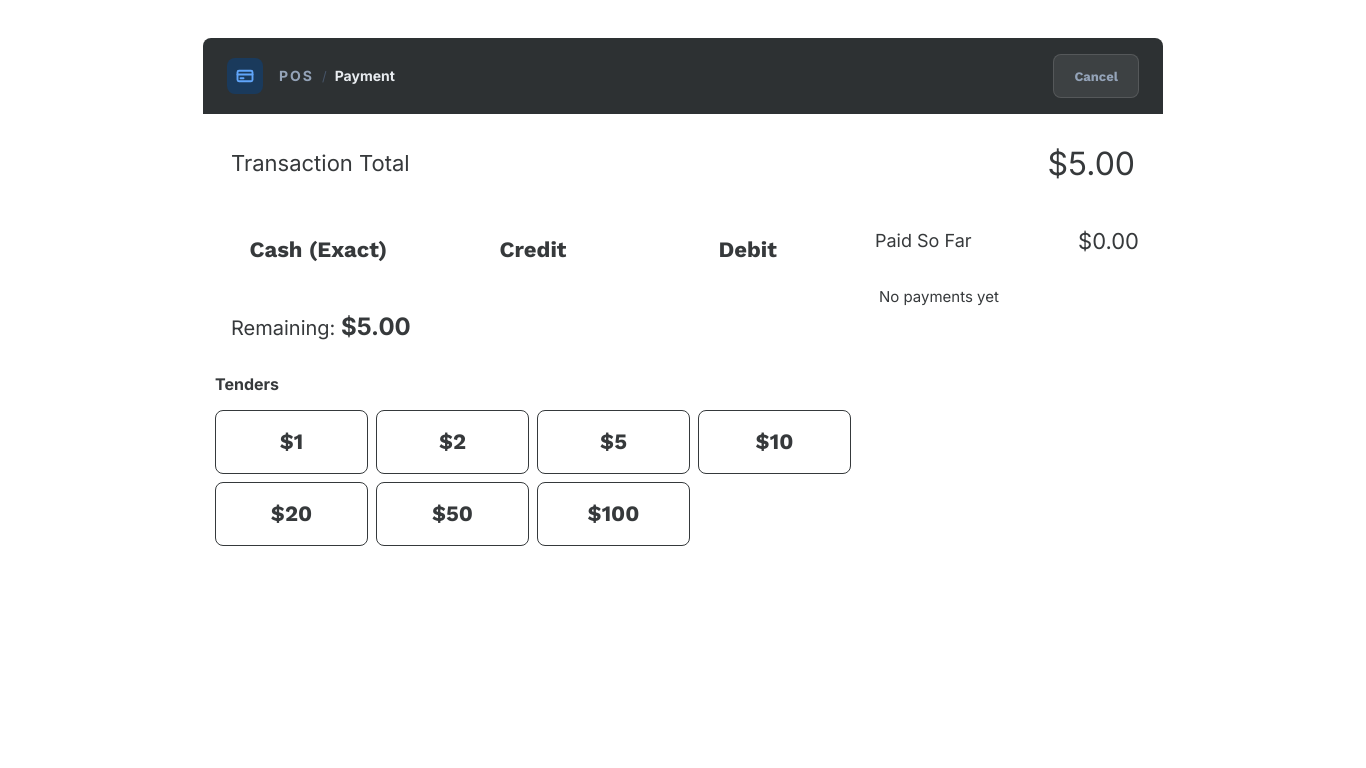
Test case: PaymentModal › disables tender buttons when remaining is zero
Click the button "$5".
click(614, 442)  # box [537,410,690,474]
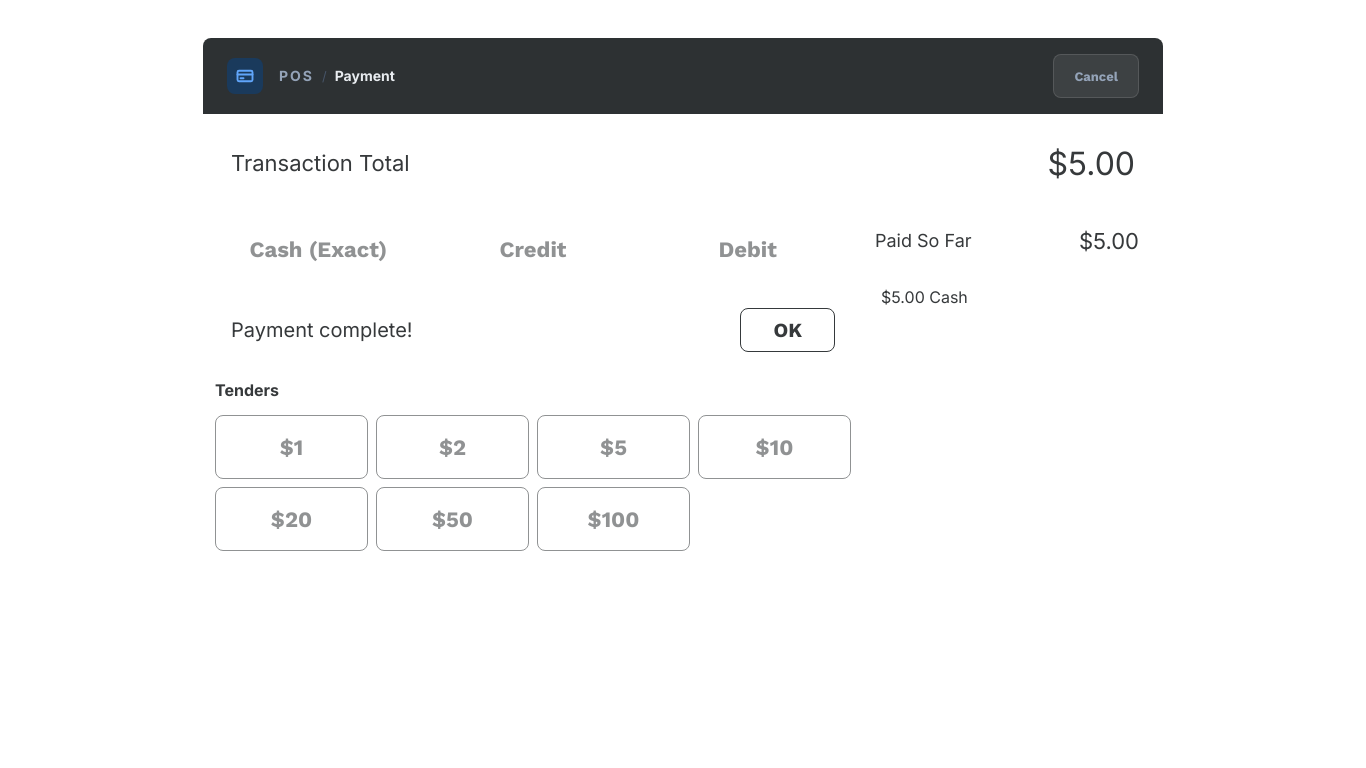
Expected: the button "$1" is disabled, [215,415,368,479]
Expected: the button "$2" is disabled, [376,415,529,479]
Expected: the button "$5" is disabled, [537,415,690,479]
